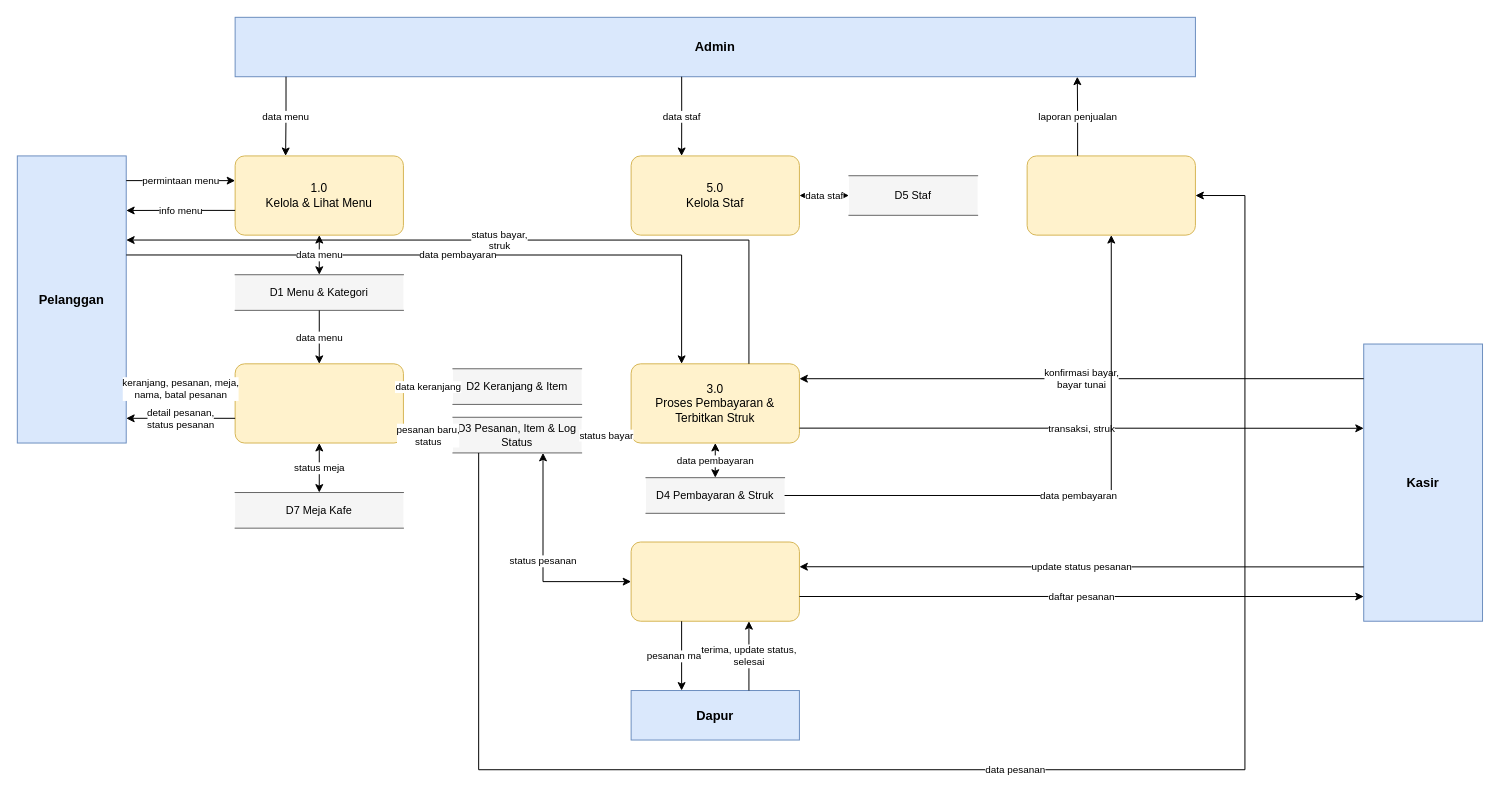
This 1500x795 diagram has some shape labels left out. Each missing label, with the centre of its shape:
2.0 Kelola Keranjang & Buat Pesanan: (318,403)
4.0 Siapkan & Lacak Pesanan: (714,581)
6.0 Buat Laporan Penjualan: (1110,195)
